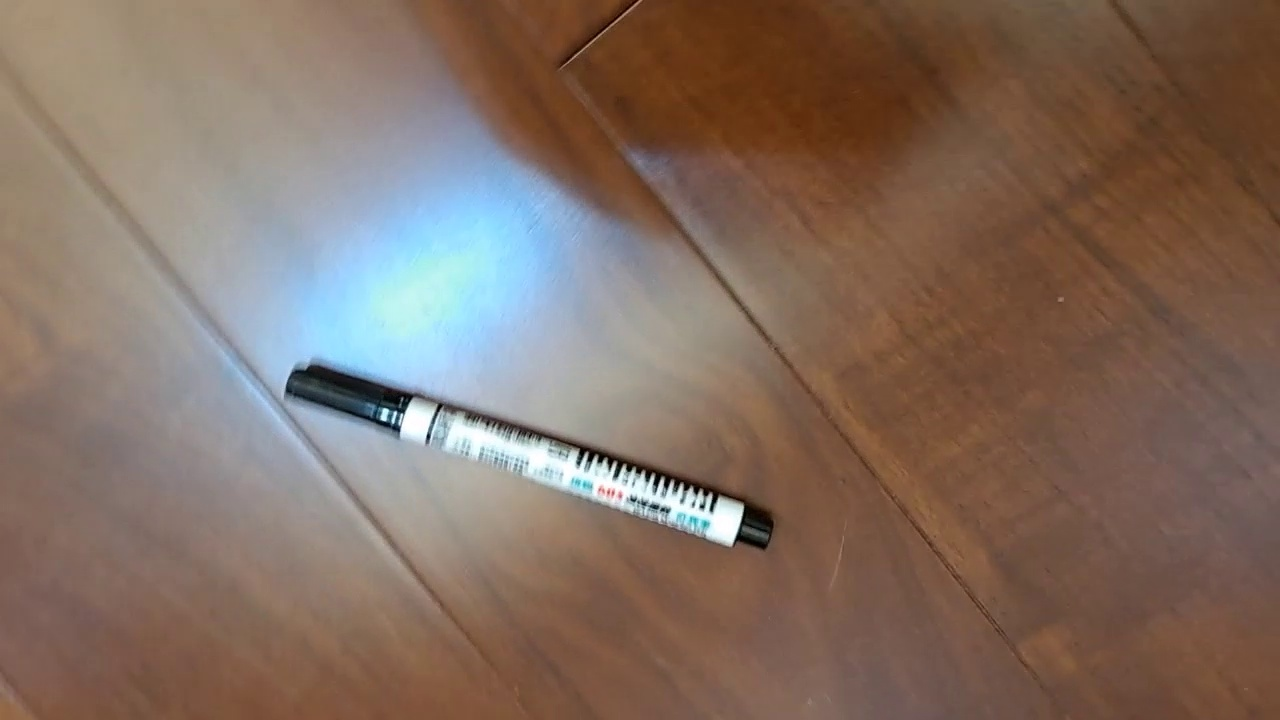pen: (283, 363, 776, 553)
